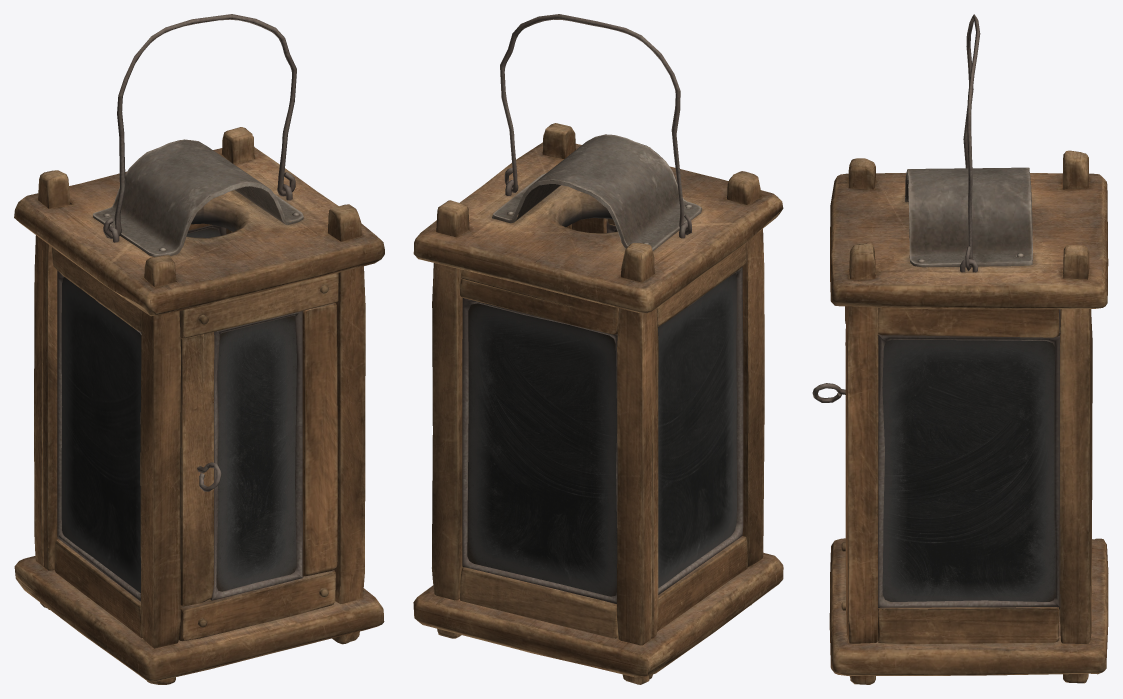
File: Decor_Lantern.fbx
The picture shows the model from 3 angles, left to right: view 1: azimuth 30°, elevation 25°; view 2: azimuth 150°, elevation 25°; view 3: azimuth 270°, elevation 25°; orthographic projection.
Parts seen in each view (by area): view 1: Decor_Lantern; view 2: Decor_Lantern; view 3: Decor_Lantern.
Part boxes in pixels (bbox=[...]): Decor_Lantern: bbox=[14, 14, 384, 684]; Decor_Lantern: bbox=[413, 14, 783, 684]; Decor_Lantern: bbox=[812, 14, 1108, 684].
Size of the model in its own units: 0.8343 by 2 by 0.8861.
2 materials, 2 textured.
